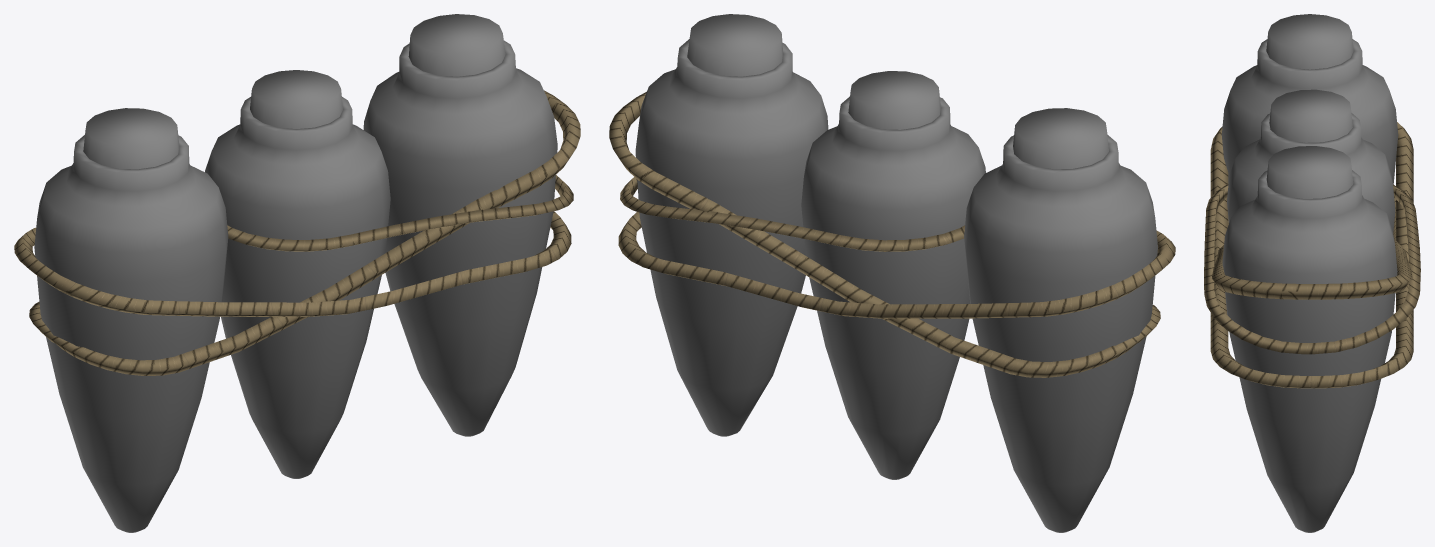
File: SM_pottery_preset_02.fbx
The picture shows the model from 3 angles, left to right: view 1: azimuth 30°, elevation 25°; view 2: azimuth 150°, elevation 25°; view 3: azimuth 270°, elevation 25°; orthographic projection. The views are drawn at different scales.
Visible parts, largest first — view 1: Object32467; view 2: Object32467; view 3: Object32467.
Part boxes in pixels (x1,y1,x2,y2): Object32467: (14, 14, 580, 532); Object32467: (609, 14, 1175, 532); Object32467: (1204, 14, 1420, 532).
Bounding box in the file's own units: 35.4 × 26.87 × 14.03.
